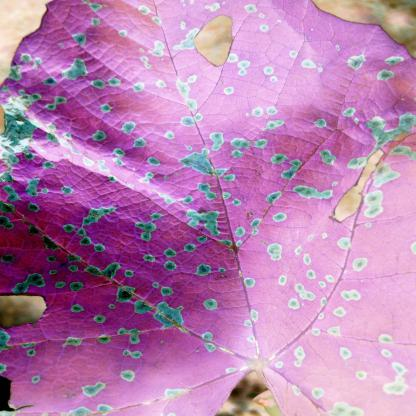grape leaf black rot: (4, 2, 408, 412)
